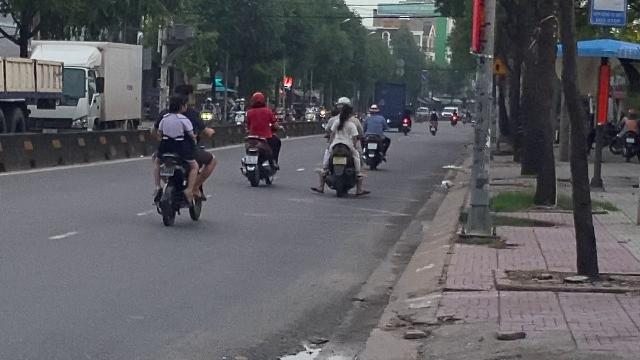motorcyclist: (148, 86, 215, 226)
nohelmet: (167, 92, 187, 114)
